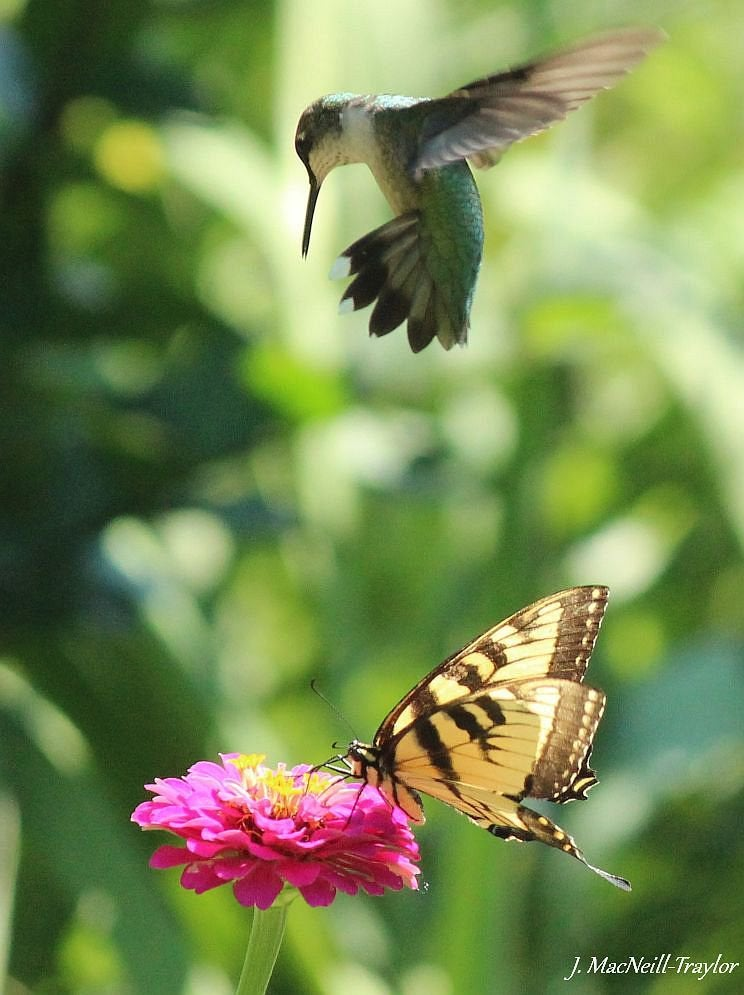kelebek: (295, 553, 668, 902)
